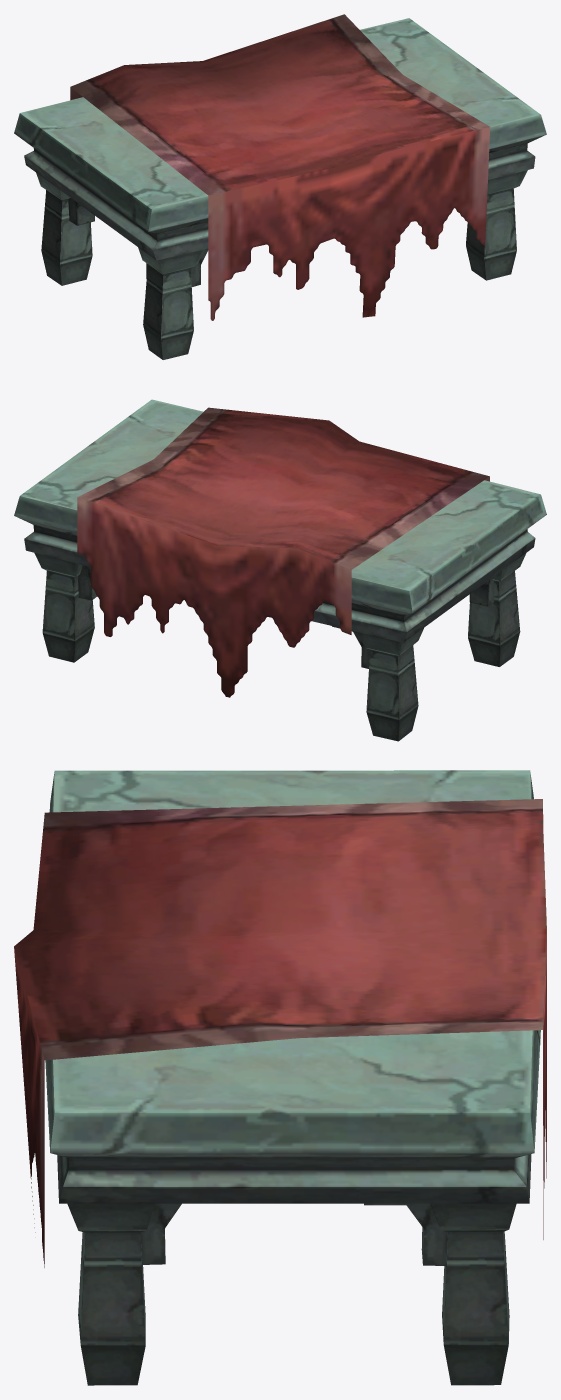
Rendered from crypt_table01.fbx.
3 renders of one model, top to bottom at view 1: azimuth 30°, elevation 25°; view 2: azimuth 150°, elevation 25°; view 3: azimuth 270°, elevation 25°, orthographic. The views are drawn at different scales.
Parts seen in each view (by area): view 1: crypt_table01-0; view 2: crypt_table01-0; view 3: crypt_table01-0.
Boxes of the visible parts, x1=… form: crypt_table01-0: x1=14, y1=14, x2=546, y2=359; crypt_table01-0: x1=14, y1=399, x2=546, y2=741; crypt_table01-0: x1=14, y1=770, x2=546, y2=1385.
Size of the model in its own units: 3.33 by 1.53 by 2.14.
